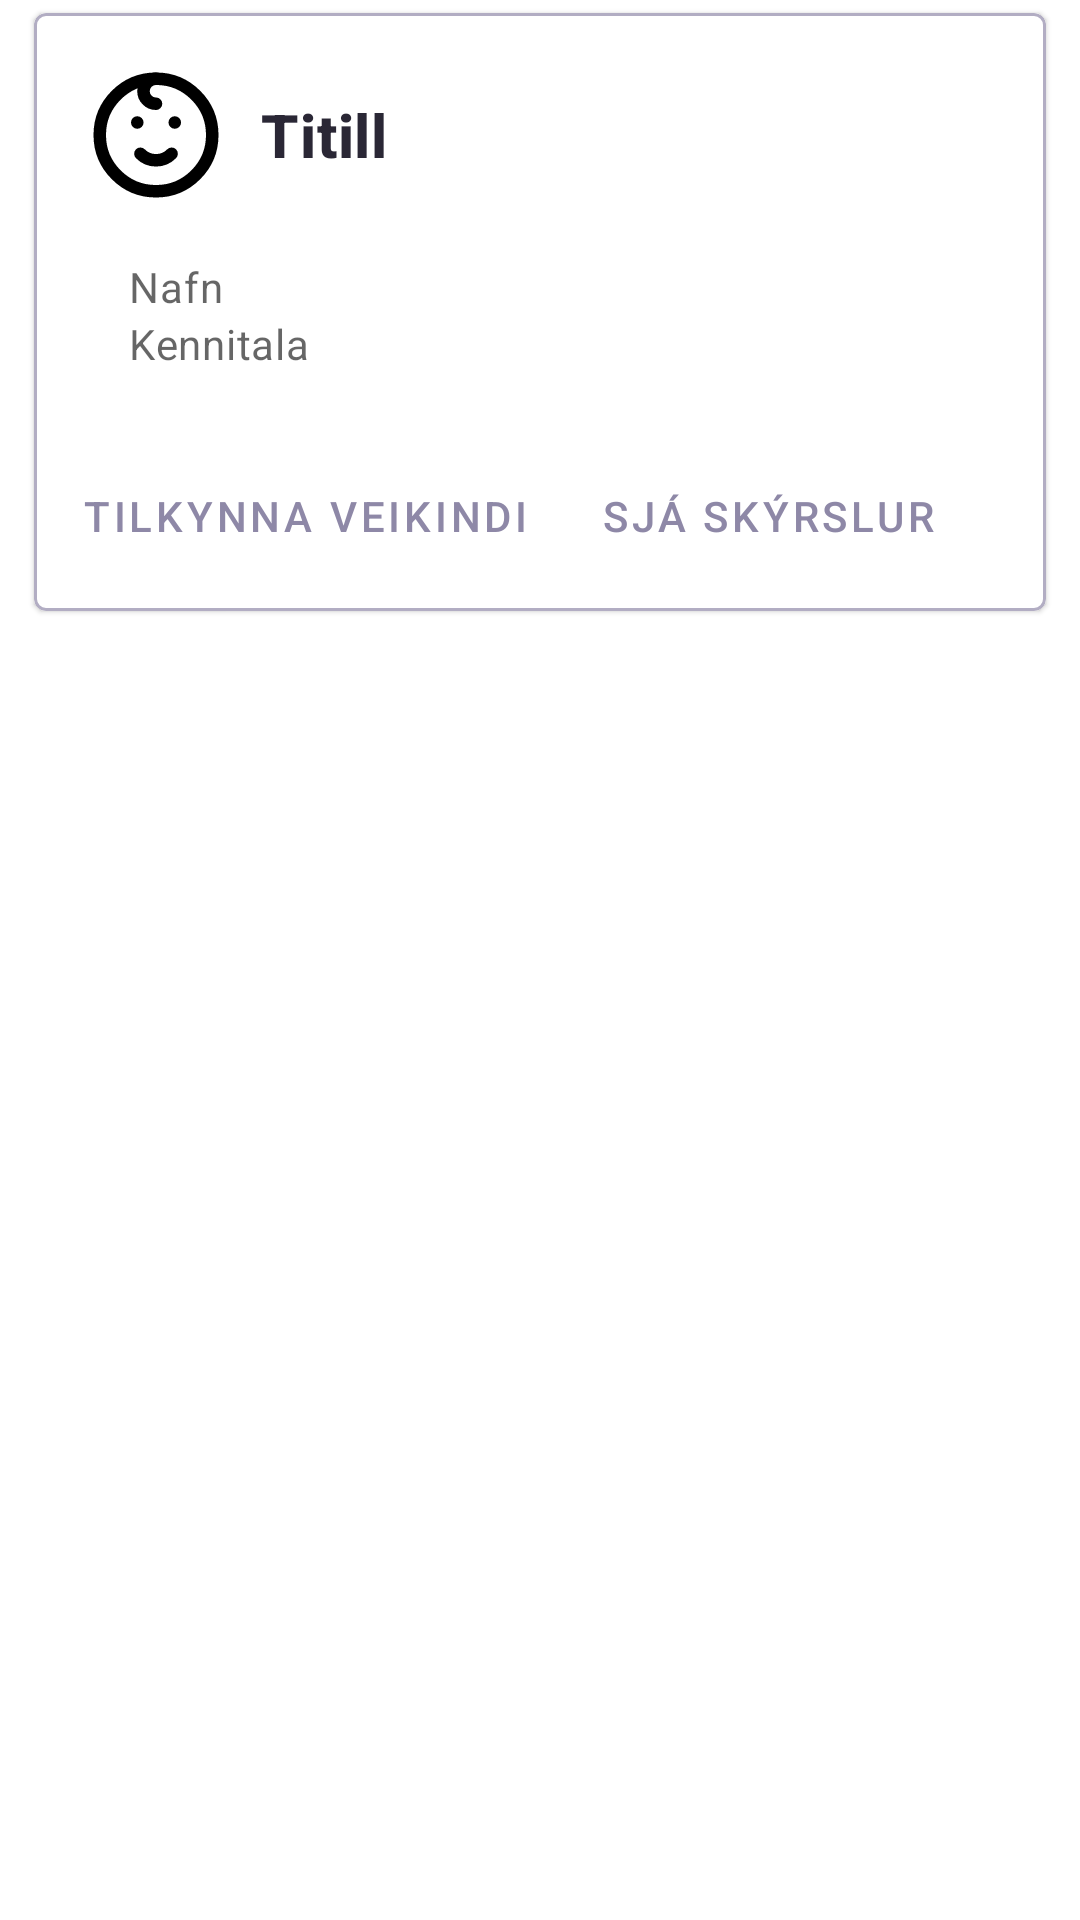

Named icons in this screenshot (1080×1920) and their bounding boxes, (x1, y1, x2, y2):
Baby Icon: (93, 72, 219, 198)
